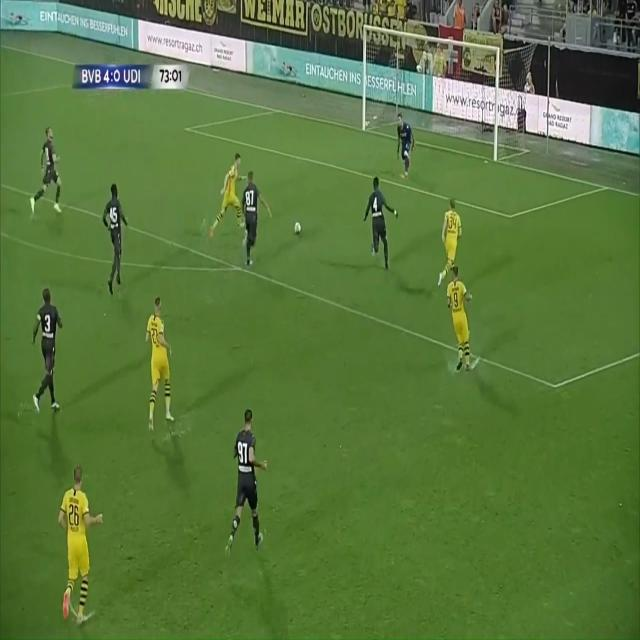ball: (293, 212, 303, 240)
goalkeeper: (395, 110, 418, 171)
player: (57, 446, 99, 631), (225, 399, 269, 560), (142, 294, 190, 439), (31, 289, 69, 417), (101, 180, 137, 294), (31, 120, 69, 227), (446, 265, 480, 374), (365, 168, 401, 269), (210, 153, 248, 247), (243, 167, 266, 266), (439, 190, 461, 293)
